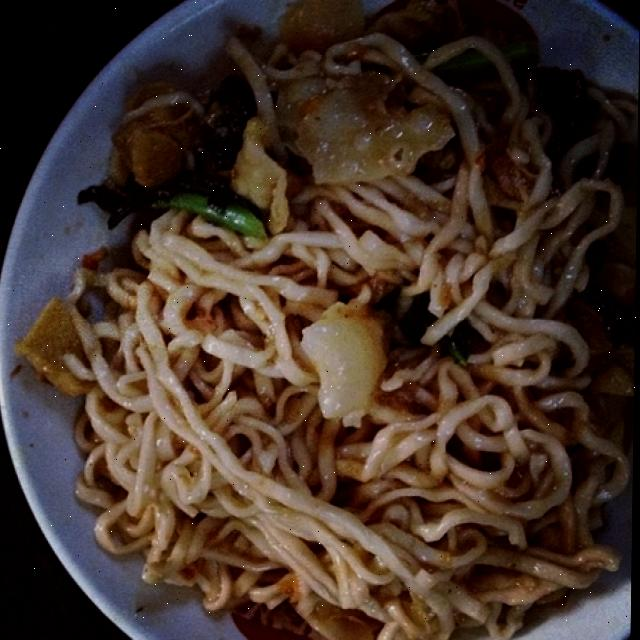面条主食: (46, 17, 640, 640)
